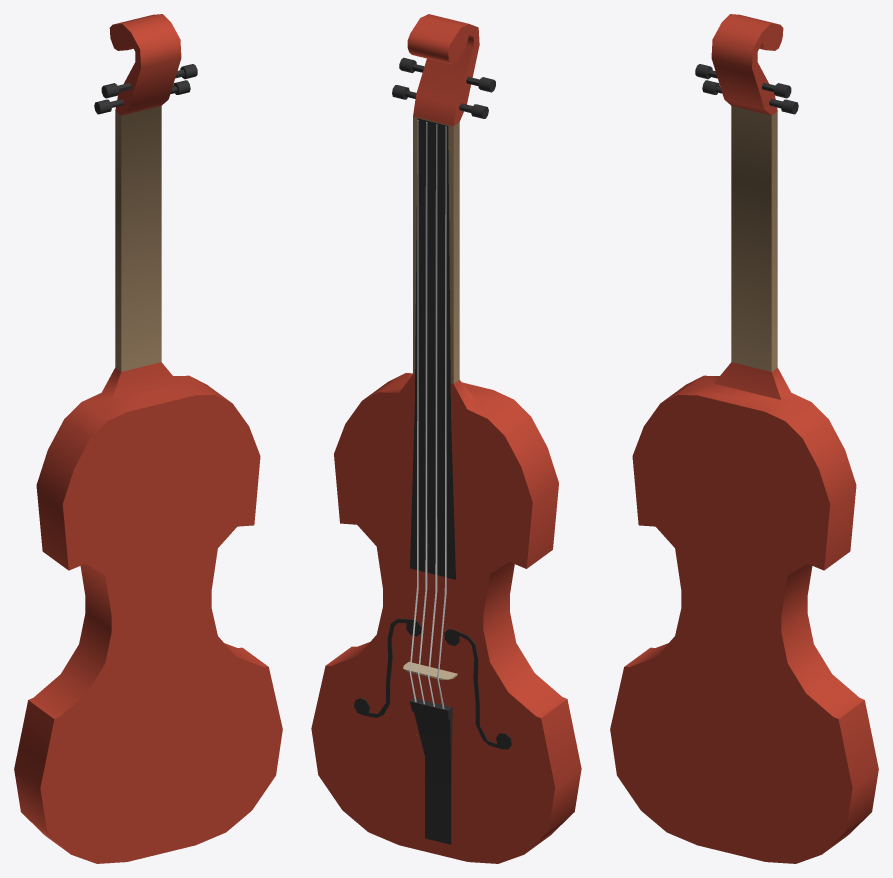
Rendered from Violin-LowBRD_rootss30.fbx.
3 views of the same model, side by side, from view 1: azimuth 30°, elevation 25°; view 2: azimuth 150°, elevation 25°; view 3: azimuth 330°, elevation 25° (orthographic).
Visible parts, largest first — view 1: Violin_LowBRD_sh_17, Violin_LowBRD_sh_6, Violin_LowBRD_sh_13, Violin_LowBRD_sh_12, Violin_LowBRD_sh_4, Violin_LowBRD_sh_22, Violin_LowBRD_sh_10, Violin_LowBRD_sh_7, Violin_LowBRD_sh_18, Violin_LowBRD_sh_9, Violin_LowBRD_sh_21, Violin_LowBRD_sh_1 (+8 smaller); view 2: Violin_LowBRD_sh_6, Violin_LowBRD_sh_17, Violin_LowBRD_sh_13, Violin_LowBRD_sh_12, Violin_LowBRD_sh_23, Violin_LowBRD_sh_18, Violin_LowBRD_sh_30, Violin_LowBRD_sh_4, Violin_LowBRD_sh_22, Violin_LowBRD_sh_20, Violin_LowBRD_sh_5, Violin_LowBRD_sh_28 (+18 smaller); view 3: Violin_LowBRD_sh_17, Violin_LowBRD_sh_6, Violin_LowBRD_sh_13, Violin_LowBRD_sh_4, Violin_LowBRD_sh_12, Violin_LowBRD_sh_9, Violin_LowBRD_sh_22, Violin_LowBRD_sh_18, Violin_LowBRD_sh_10, Violin_LowBRD_sh_7, Violin_LowBRD_sh_1, Violin_LowBRD_sh_14 (+8 smaller).
Boxes of the visible parts, x1=… form: Violin_LowBRD_sh_17: x1=34, y1=605, x2=239, y2=770; Violin_LowBRD_sh_6: x1=36, y1=440, x2=184, y2=628; Violin_LowBRD_sh_13: x1=14, y1=697, x2=158, y2=863; Violin_LowBRD_sh_12: x1=53, y1=317, x2=226, y2=460; Violin_LowBRD_sh_4: x1=158, y1=676, x2=282, y2=798; Violin_LowBRD_sh_22: x1=149, y1=402, x2=228, y2=543; Violin_LowBRD_sh_10: x1=168, y1=769, x2=276, y2=849; Violin_LowBRD_sh_7: x1=115, y1=90, x2=171, y2=197; Violin_LowBRD_sh_18: x1=151, y1=552, x2=219, y2=639; Violin_LowBRD_sh_9: x1=216, y1=402, x2=260, y2=520; Violin_LowBRD_sh_21: x1=115, y1=186, x2=161, y2=293; Violin_LowBRD_sh_1: x1=124, y1=14, x2=181, y2=89; Violin_LowBRD_sh_6: x1=447, y1=437, x2=558, y2=622; Violin_LowBRD_sh_17: x1=370, y1=608, x2=558, y2=766; Violin_LowBRD_sh_13: x1=451, y1=694, x2=581, y2=840; Violin_LowBRD_sh_12: x1=365, y1=331, x2=520, y2=468; Violin_LowBRD_sh_23: x1=311, y1=674, x2=420, y2=759; Violin_LowBRD_sh_18: x1=373, y1=539, x2=468, y2=652; Violin_LowBRD_sh_30: x1=413, y1=328, x2=452, y2=470; Violin_LowBRD_sh_4: x1=316, y1=742, x2=424, y2=797; Violin_LowBRD_sh_22: x1=354, y1=409, x2=413, y2=514; Violin_LowBRD_sh_20: x1=386, y1=781, x2=476, y2=862; Violin_LowBRD_sh_5: x1=335, y1=467, x2=411, y2=546; Violin_LowBRD_sh_28: x1=416, y1=118, x2=448, y2=207; Violin_LowBRD_sh_17: x1=633, y1=604, x2=809, y2=769; Violin_LowBRD_sh_6: x1=632, y1=418, x2=754, y2=605; Violin_LowBRD_sh_13: x1=610, y1=647, x2=728, y2=845; Violin_LowBRD_sh_4: x1=727, y1=714, x2=874, y2=824; Violin_LowBRD_sh_12: x1=668, y1=314, x2=821, y2=454; Violin_LowBRD_sh_9: x1=786, y1=433, x2=856, y2=552; Violin_LowBRD_sh_22: x1=718, y1=432, x2=836, y2=555; Violin_LowBRD_sh_18: x1=721, y1=563, x2=816, y2=667; Violin_LowBRD_sh_10: x1=738, y1=802, x2=869, y2=863; Violin_LowBRD_sh_7: x1=731, y1=92, x2=777, y2=207; Violin_LowBRD_sh_1: x1=712, y1=14, x2=778, y2=99; Violin_LowBRD_sh_14: x1=789, y1=649, x2=867, y2=733.
Size of the model in its own units: 228 by 739 by 58.65.
2 materials, 1 textured.
